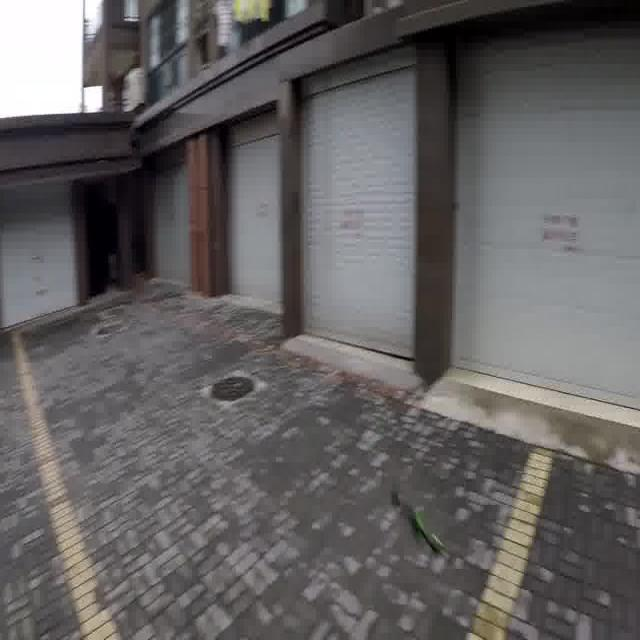drone: (389, 478, 445, 558)
